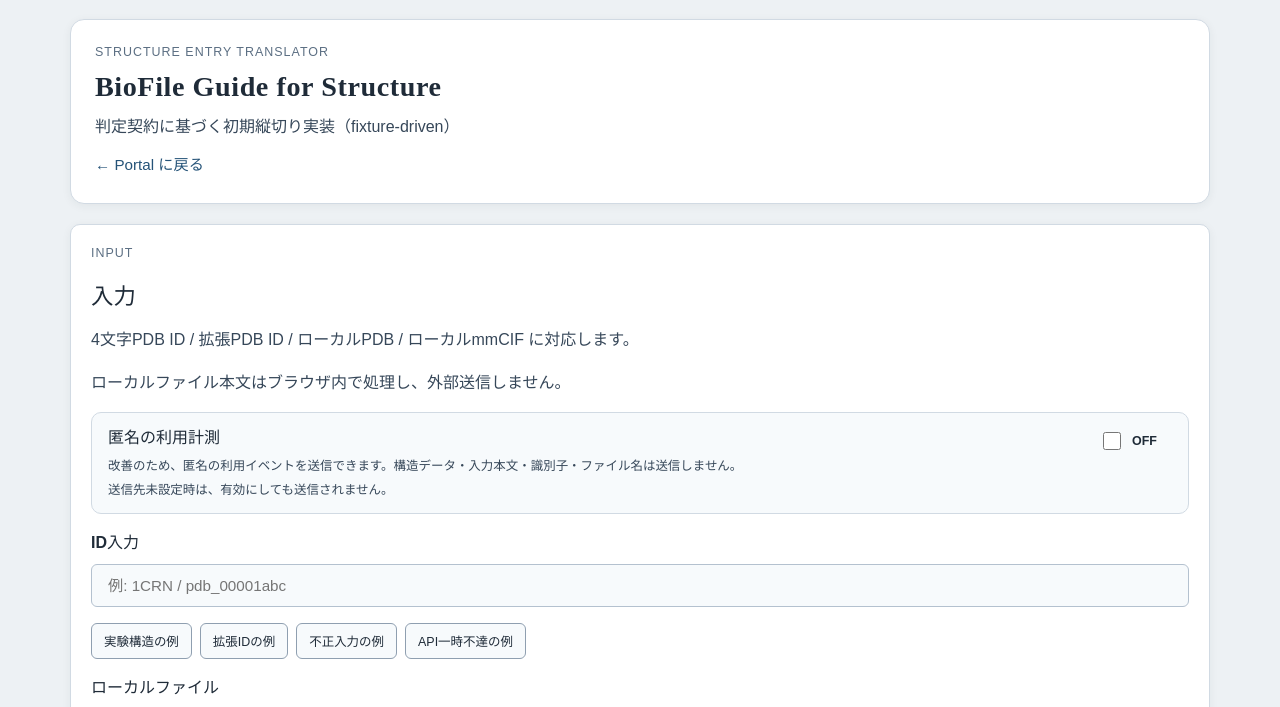
Test: App contract rendering › renders error with a primary next action and auxiliary technical code details
The width and height of the screenshot is (1280, 707).
Click the button "不正入力の例" at (347, 641), box x1=296 y1=623 x2=397 y2=659
(page scrolled)
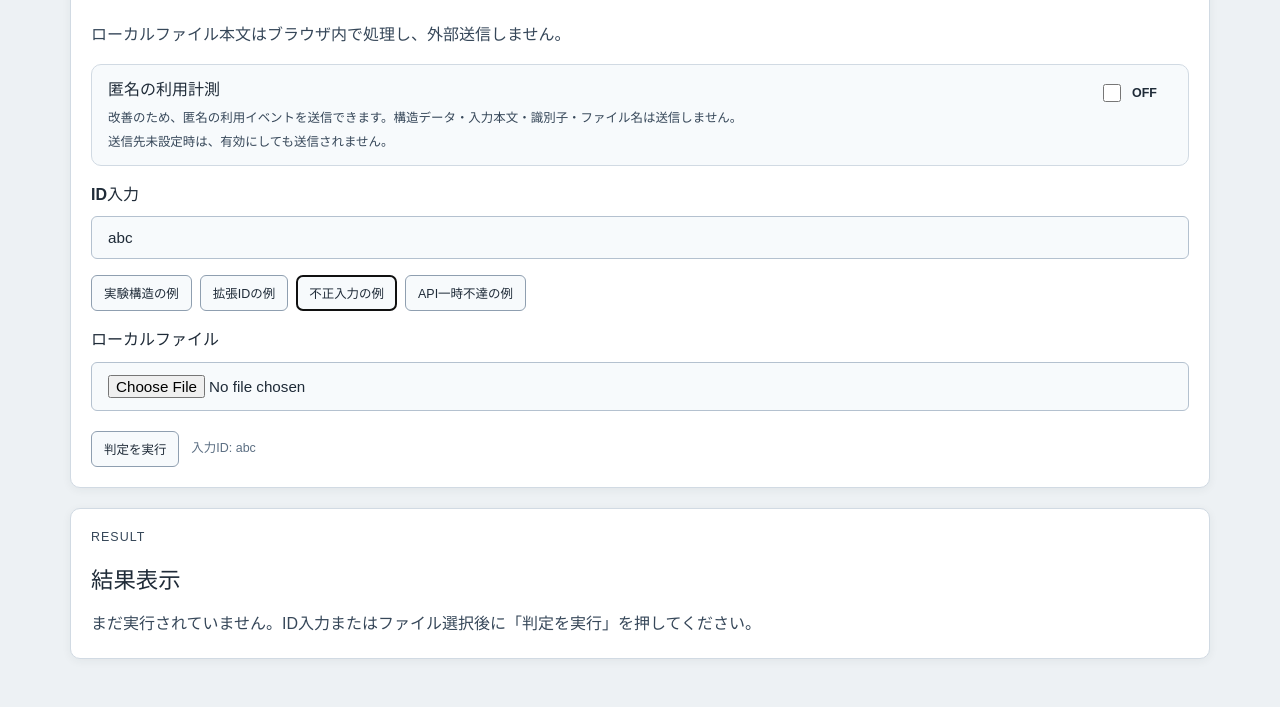
Click the button "判定を実行" at (135, 449), box x1=91 y1=431 x2=179 y2=467
(page scrolled)
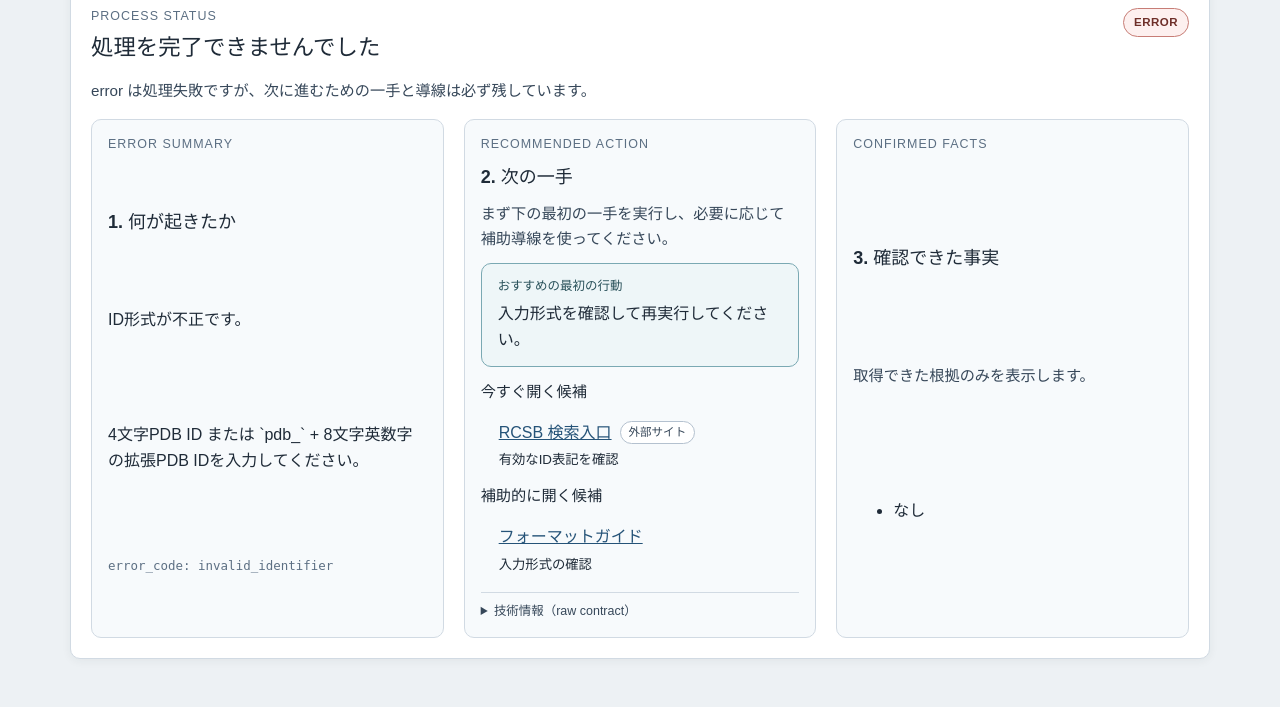
Now the text "invalid_identifier" is shown, box x1=198 y1=558 x2=333 y2=573
Now the heading "1. 何が起きたか" is shown, box x1=108 y1=212 x2=236 y2=232
Now the heading "2. 次の一手" is shown, box x1=481 y1=167 x2=573 y2=187
